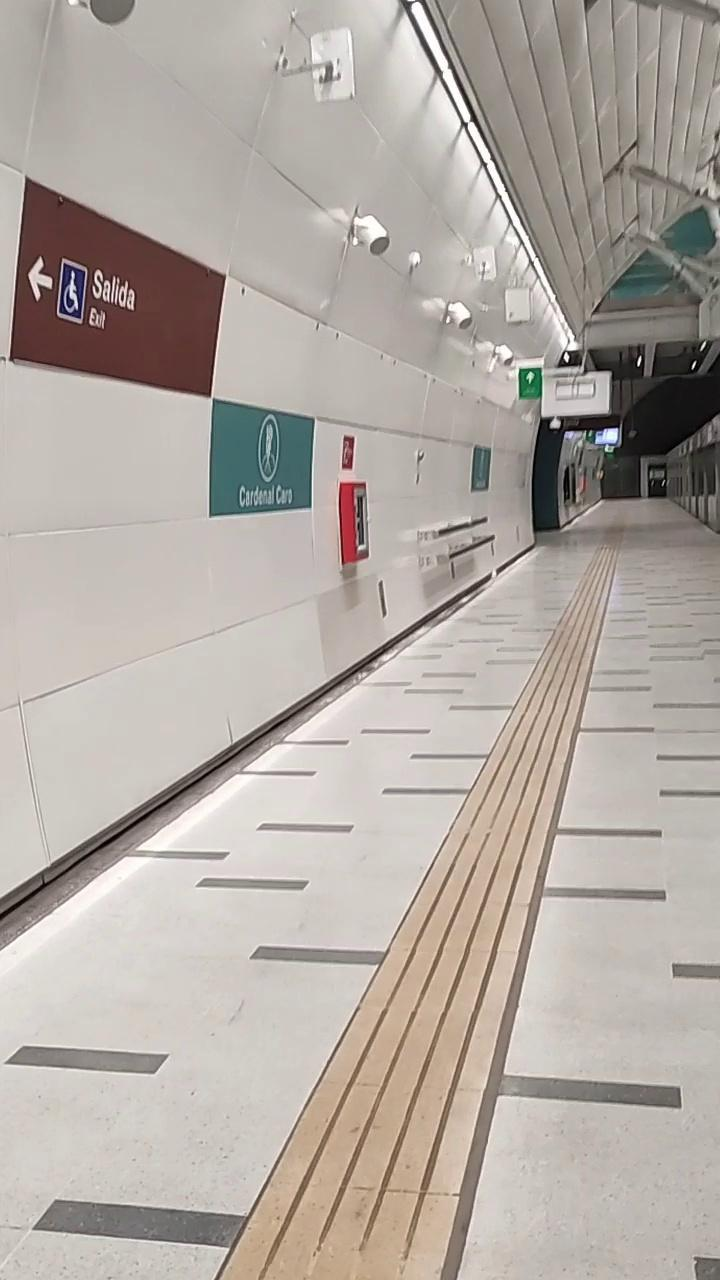handicapped symbol: (49, 265, 98, 318)
left arrow: (22, 257, 61, 305)
